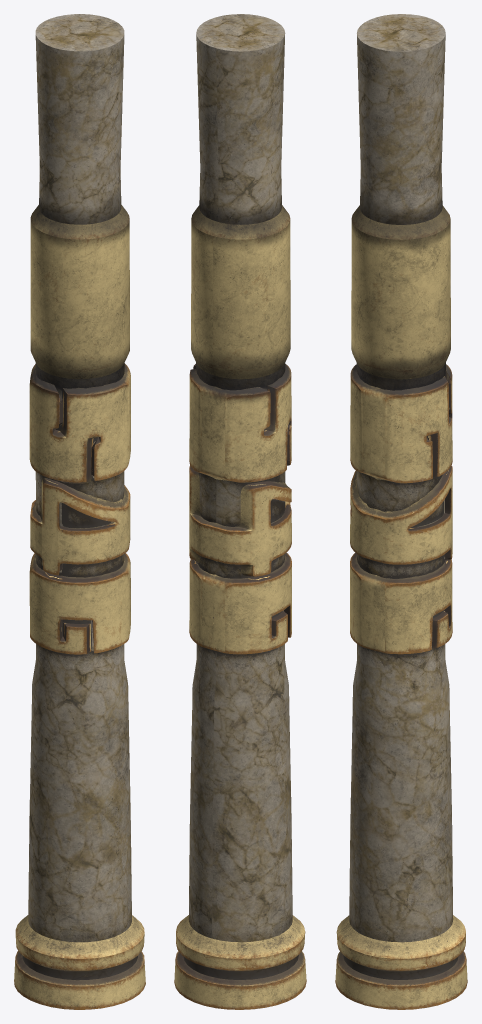
Rendered from m_temple_column_01_lo.fbx.
3 views of the same model, side by side, from view 1: azimuth 90°, elevation 25°; view 2: azimuth 150°, elevation 25°; view 3: azimuth 330°, elevation 25° (orthographic).
Parts seen in each view (by area): view 1: m_temple_column_01_lo; view 2: m_temple_column_01_lo; view 3: m_temple_column_01_lo.
Part boxes in pixels (box(x1,y1,x2,y2)): m_temple_column_01_lo: box(14, 14, 145, 1009); m_temple_column_01_lo: box(174, 14, 306, 1009); m_temple_column_01_lo: box(335, 14, 467, 1009).
Size of what is drawn, in the model's own units: 307 by 2446 by 308.
